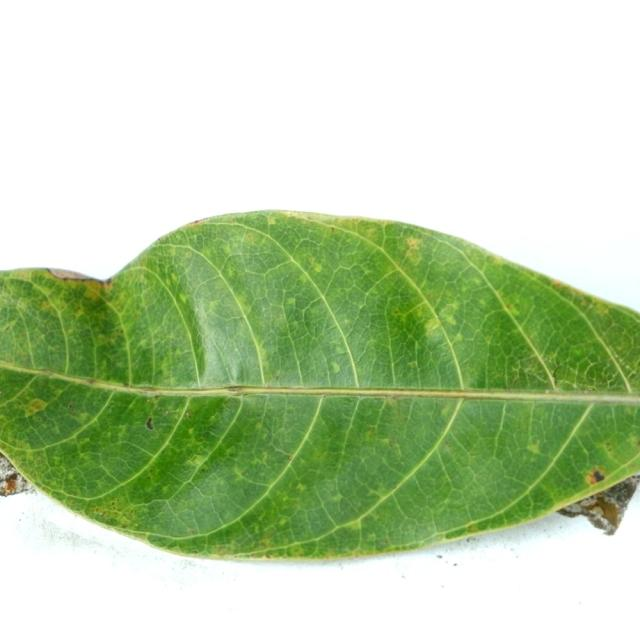Mango: (0, 212, 639, 558)
Powdery_Mildew: (506, 351, 557, 390), (548, 276, 602, 302), (91, 501, 134, 526), (398, 297, 439, 321), (176, 446, 213, 469), (220, 348, 244, 382), (327, 355, 356, 381), (94, 329, 119, 348), (81, 282, 105, 301), (24, 398, 47, 417), (39, 368, 65, 382), (440, 309, 458, 326), (404, 236, 422, 252), (587, 469, 605, 485), (443, 527, 465, 540), (3, 476, 18, 494), (423, 318, 442, 332), (242, 549, 271, 558), (362, 427, 380, 441), (344, 520, 364, 532), (526, 441, 542, 455), (588, 505, 604, 518), (440, 404, 454, 417), (221, 398, 235, 411), (3, 319, 18, 331), (258, 534, 271, 547), (39, 299, 53, 311), (624, 363, 636, 375), (208, 300, 221, 311), (328, 492, 342, 502), (453, 332, 465, 343), (330, 361, 341, 373), (277, 516, 289, 527), (495, 289, 507, 300), (168, 273, 178, 286), (448, 301, 459, 312), (627, 434, 638, 445), (385, 396, 398, 405), (145, 417, 154, 430), (236, 390, 250, 398), (295, 482, 306, 492), (178, 293, 188, 304), (510, 307, 521, 317), (378, 438, 390, 447), (186, 427, 196, 437), (312, 263, 322, 273), (266, 216, 277, 225), (466, 523, 477, 532), (336, 348, 348, 356), (85, 378, 97, 386), (551, 279, 563, 287), (366, 532, 376, 541), (504, 303, 514, 312), (604, 441, 613, 451), (617, 355, 626, 364), (286, 297, 296, 305), (407, 360, 418, 367), (209, 414, 217, 423), (261, 452, 269, 461), (391, 438, 399, 447), (245, 232, 253, 241), (342, 318, 350, 325), (152, 394, 161, 400), (393, 309, 400, 316), (382, 538, 389, 545), (583, 388, 591, 394), (68, 402, 74, 410), (263, 381, 271, 387), (187, 528, 194, 534), (185, 411, 191, 418), (319, 393, 325, 400), (287, 455, 293, 461), (274, 375, 280, 381), (330, 226, 335, 233), (164, 410, 169, 415), (307, 216, 313, 220)
